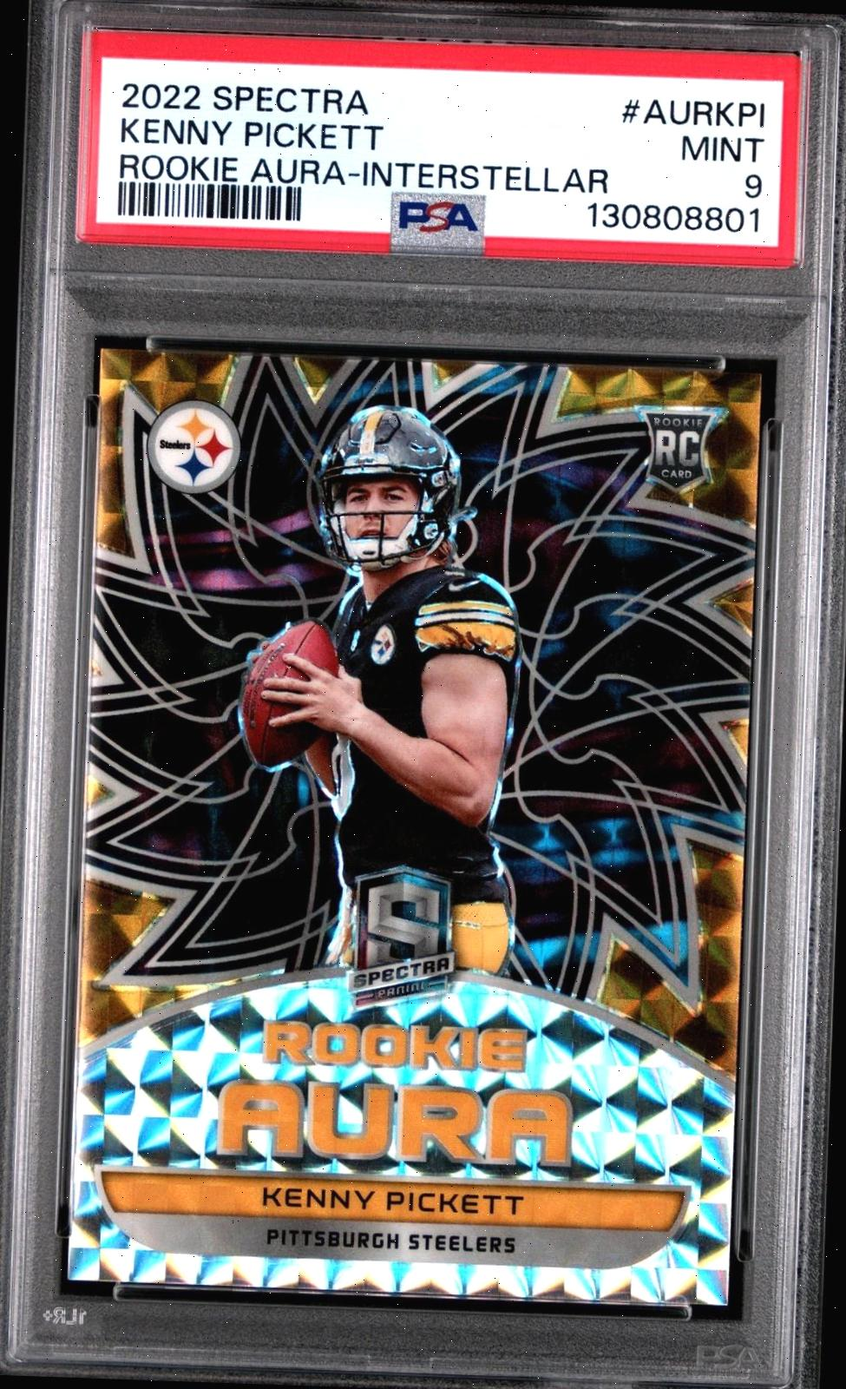card-2UtV: (66, 346, 762, 1306)
